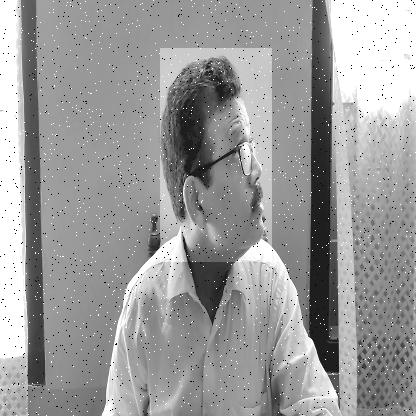Distracted: (160, 48, 272, 262)
